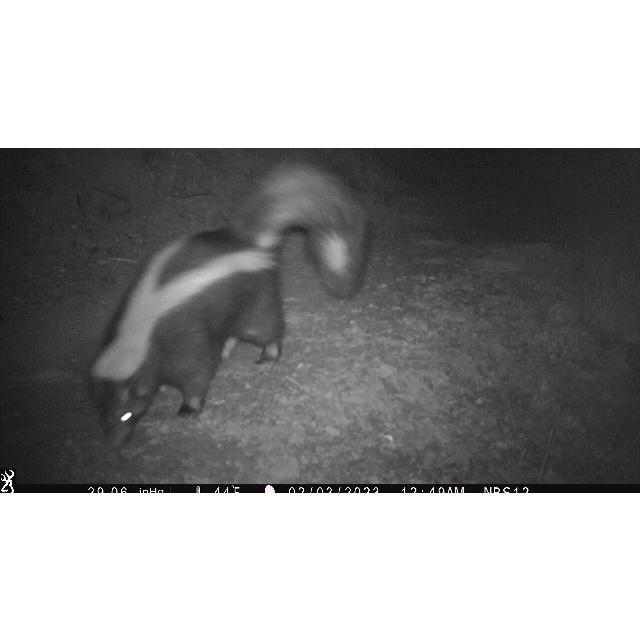animals: (86, 160, 370, 450)
